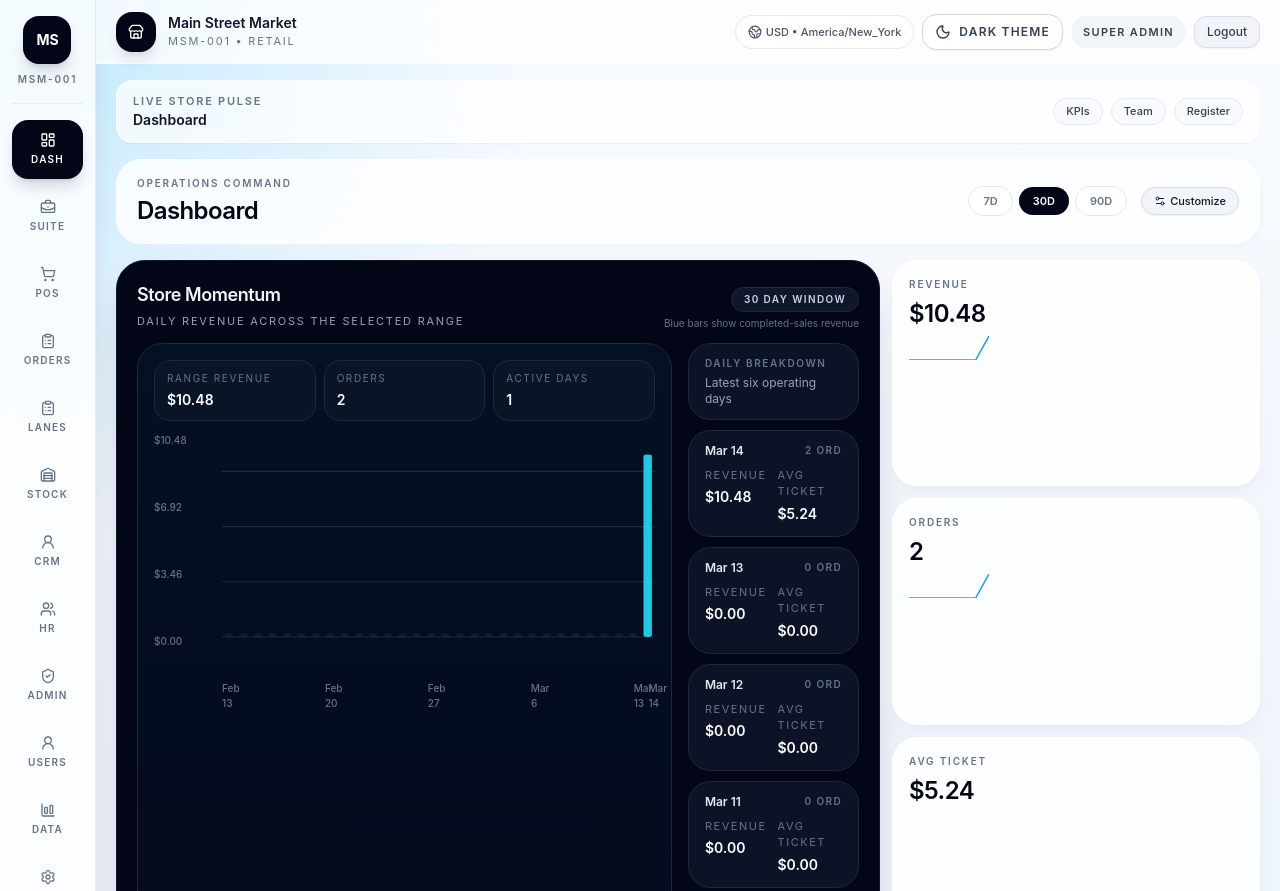
Test: app flows › logs out and returns to login page
Click the button "Logout". click: (1227, 32)
box: [1194,16,1260,48]
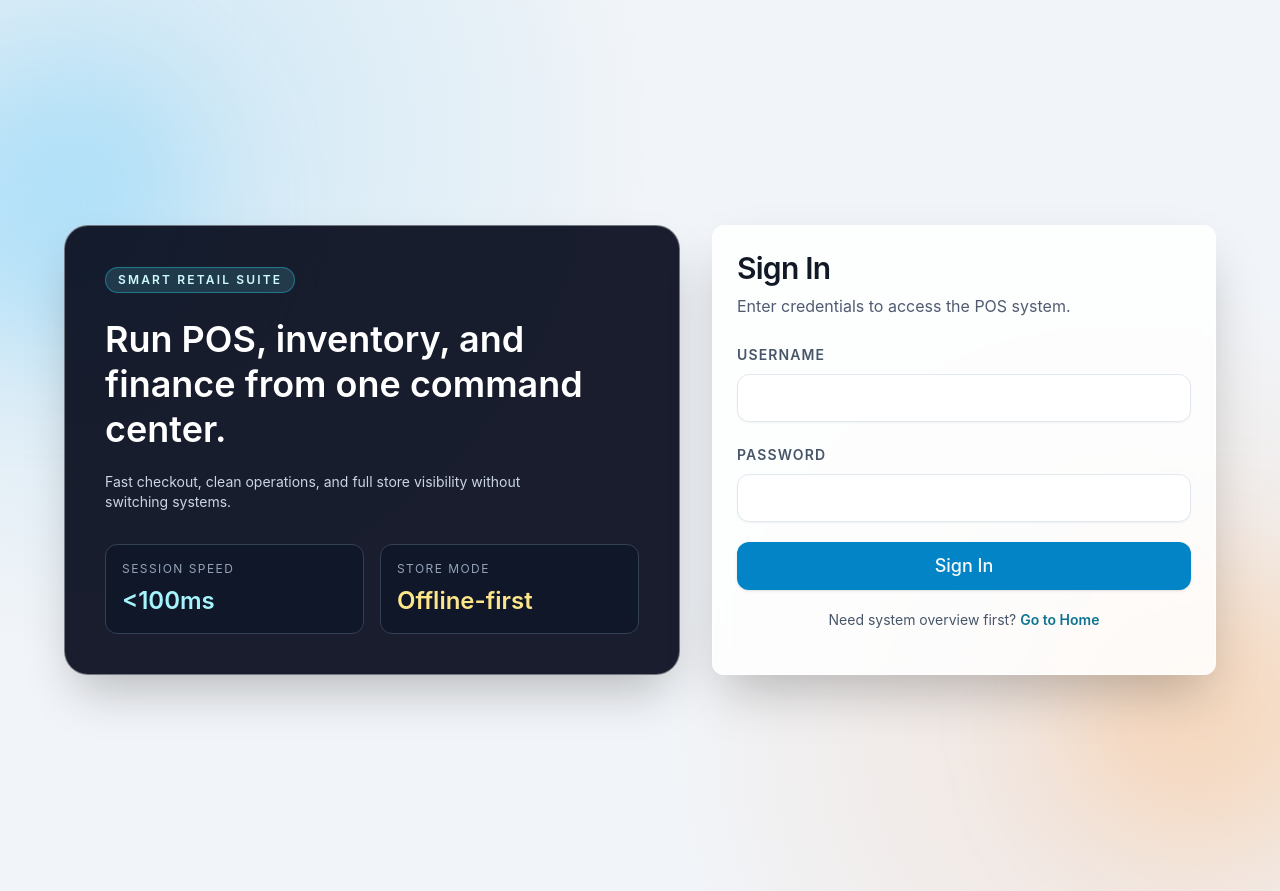
Expected: the heading "Sign In" is shown, [737,250,830,286]
